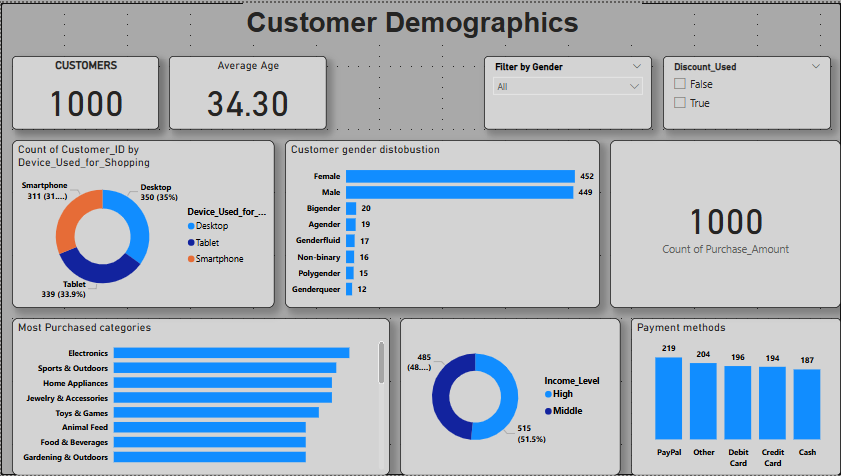

This screenshot's page, from the dashboard's own definition file:
{"tool":"powerbi","page":{"name":"Page 1","canvas":[1280,720],"ordinal":0},"visuals":[{"type":"textbox","box":[368,0,608,64],"z":0},{"type":"clusteredBarChart","title":"Customer gender distobustion","fields":{"Category":["Ecommerce_Consumer_Behavior_Analysis_Data.Gender"],"Y":["CountNonNull(Ecommerce_Consumer_Behavior_Analysis_Data.Customer_ID)"]},"box":[432,208,480,256],"z":1000},{"type":"donutChart","fields":{"Category":["Ecommerce_Consumer_Behavior_Analysis_Data.Income_Level"],"Y":["CountNonNull(Ecommerce_Consumer_Behavior_Analysis_Data.Customer_ID)"]},"box":[608,480,336,240],"z":2000},{"type":"columnChart","title":"Payment methods","fields":{"Category":["Ecommerce_Consumer_Behavior_Analysis_Data.Payment_Method"],"Y":["CountNonNull(Ecommerce_Consumer_Behavior_Analysis_Data.Customer_ID)"]},"box":[960,480,320,240],"z":3000},{"type":"barChart","title":"Most Purchased categories","fields":{"Category":["Ecommerce_Consumer_Behavior_Analysis_Data.Purchase_Category"],"Y":["CountNonNull(Ecommerce_Consumer_Behavior_Analysis_Data.Customer_ID)"]},"box":[16,480,576,240],"z":4000},{"type":"card","title":"CUSTOMERS","fields":{"Values":["Ecommerce_Consumer_Behavior_Analysis_Data.count_customer"]},"box":[16,80,224,112],"z":5000},{"type":"donutChart","fields":{"Category":["Ecommerce_Consumer_Behavior_Analysis_Data.Device_Used_for_Shopping"],"Y":["CountNonNull(Ecommerce_Consumer_Behavior_Analysis_Data.Customer_ID)"]},"box":[16,208,400,256],"z":6000},{"type":"card","fields":{"Values":["CountNonNull(Ecommerce_Consumer_Behavior_Analysis_Data.Purchase_Amount)"]},"box":[928,208,352,256],"z":7000},{"type":"card","title":"Average Age","fields":{"Values":["Avg(Ecommerce_Consumer_Behavior_Analysis_Data.Age)"]},"box":[256,80,240,112],"z":8000},{"type":"slicer","fields":{"Values":["Ecommerce_Consumer_Behavior_Analysis_Data.Discount_Used"]},"box":[1008,80,256,112],"z":9000},{"type":"slicer","fields":{"Values":["Ecommerce_Consumer_Behavior_Analysis_Data.Gender"]},"box":[736,80,256,112],"z":10000}]}

Visuals, with their boxes in screenshot pixels (x1, y1, x2, y2), scaled from the page's 1280x720 canvas onto the 841x476 screenshot:
textbox: 242,0,641,42
"Customer gender distobustion" clusteredBarChart: 284,138,599,307
donutChart - Ecommerce_Consumer_Behavior_Analysis_Data.Income_Level x CountNonNull(Ecommerce_Consumer_Behavior_Analysis_Data.Customer_ID): 399,317,620,475
"Payment methods" columnChart: 631,317,840,475
"Most Purchased categories" barChart: 11,317,389,475
"CUSTOMERS" card: 11,53,158,127
donutChart - Ecommerce_Consumer_Behavior_Analysis_Data.Device_Used_for_Shopping x CountNonNull(Ecommerce_Consumer_Behavior_Analysis_Data.Customer_ID): 11,138,273,307
card - CountNonNull(Ecommerce_Consumer_Behavior_Analysis_Data.Purchase_Amount): 610,138,840,307
"Average Age" card: 168,53,326,127
slicer - Ecommerce_Consumer_Behavior_Analysis_Data.Discount_Used: 662,53,830,127
slicer - Ecommerce_Consumer_Behavior_Analysis_Data.Gender: 484,53,652,127
